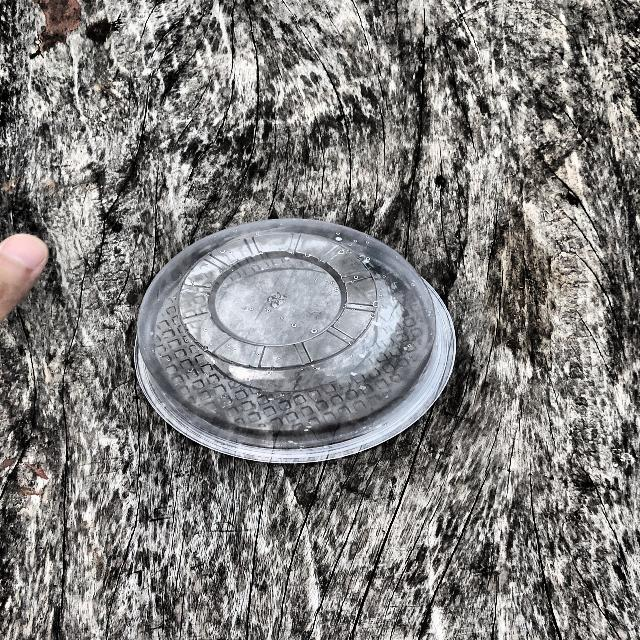plastic container: (123, 207, 478, 483)
